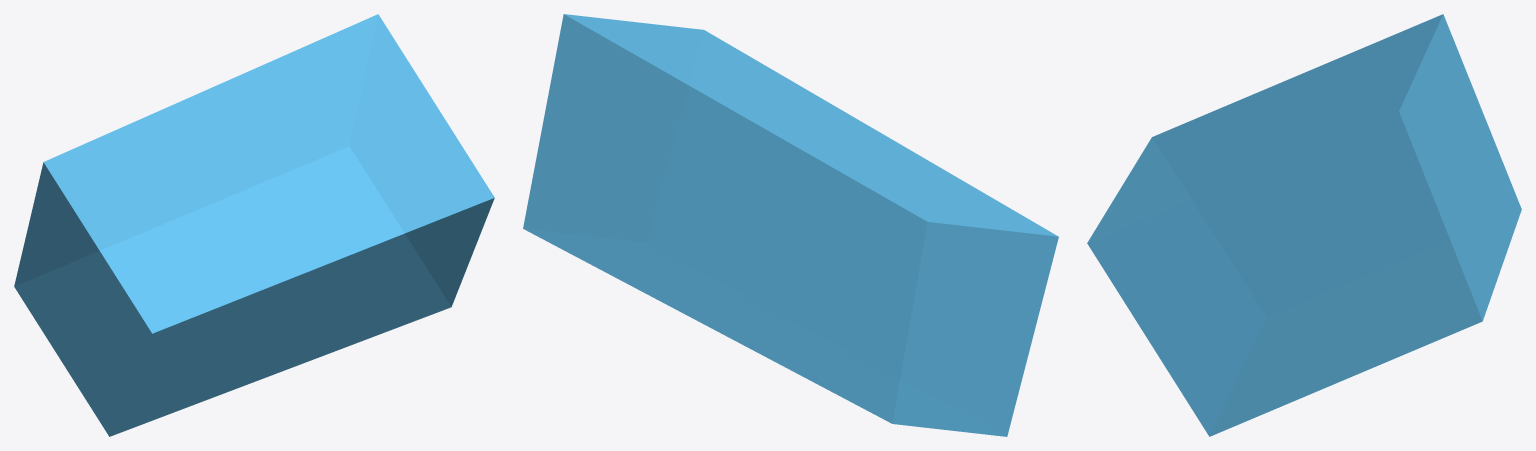
File: Event_421278790_HErechit_13.fbx
3 renders of one model, left to right at view 1: azimuth 30°, elevation 25°; view 2: azimuth 150°, elevation 25°; view 3: azimuth 270°, elevation 25°, orthographic. The views are drawn at different scales.
Visible parts, largest first — view 1: Model; view 2: Model; view 3: Model.
Part boxes in pixels (left/top/right/bottom): Model: left=14, top=14, right=494, bottom=436; Model: left=523, top=14, right=1058, bottom=436; Model: left=1087, top=14, right=1521, bottom=436.
Bounding box in the file's own units: 0.7209 × 0.6639 × 0.6322.
